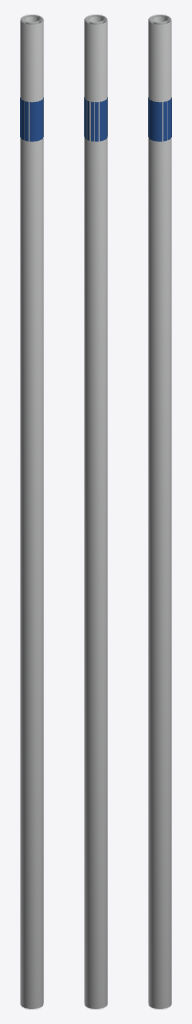
Rendered from capillary-spotter.glb.
The picture shows the model from 3 angles, left to right: view 1: azimuth 30°, elevation 25°; view 2: azimuth 150°, elevation 25°; view 3: azimuth 330°, elevation 25°; orthographic projection.
Parts seen in each view (by area): view 1: Capillary_glass, Capillary_ring; view 2: Capillary_glass, Capillary_ring; view 3: Capillary_glass, Capillary_ring.
Boxes of the visible parts, box(x1,y1,x2,y2) form: Capillary_glass: box(20, 14, 43, 1009); Capillary_ring: box(20, 97, 43, 141); Capillary_glass: box(84, 14, 107, 1009); Capillary_ring: box(84, 97, 107, 141); Capillary_glass: box(148, 14, 171, 1009); Capillary_ring: box(148, 97, 171, 141).
Size of the model in its own units: 0.00164 by 0.075 by 0.00164.
